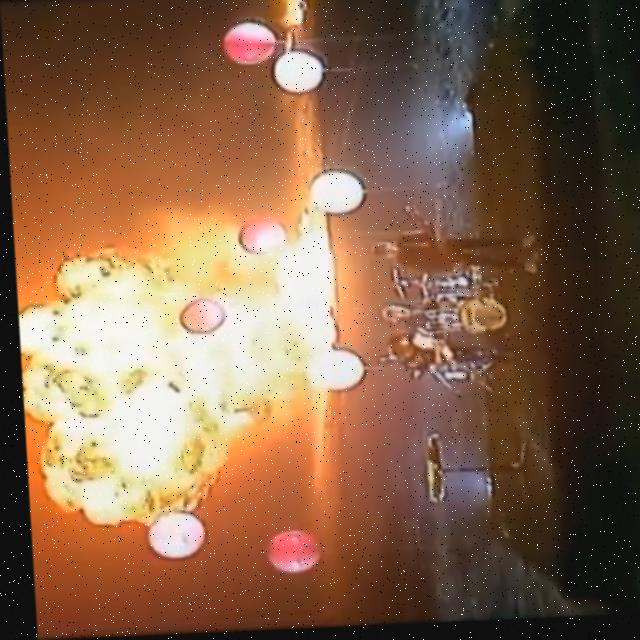balloon: (133, 512, 202, 561), (302, 349, 368, 396), (257, 528, 315, 578), (220, 21, 279, 67), (303, 173, 365, 215), (272, 51, 326, 96), (227, 220, 283, 256), (175, 299, 224, 334)
